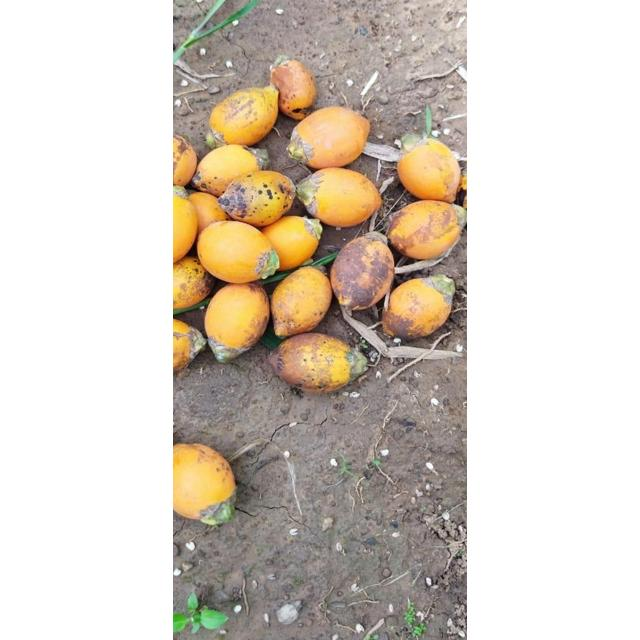good: (269, 332, 369, 392), (203, 283, 271, 361), (295, 168, 381, 228), (174, 444, 238, 524), (287, 108, 371, 168), (330, 234, 394, 312), (382, 274, 456, 340), (197, 222, 273, 286), (386, 200, 462, 260), (217, 171, 297, 227), (396, 136, 462, 202), (270, 266, 332, 336), (208, 86, 280, 146), (191, 145, 269, 197), (260, 216, 322, 272), (270, 57, 318, 119), (174, 256, 216, 312), (173, 190, 199, 266), (174, 316, 206, 376), (188, 192, 228, 234), (174, 132, 198, 188)
